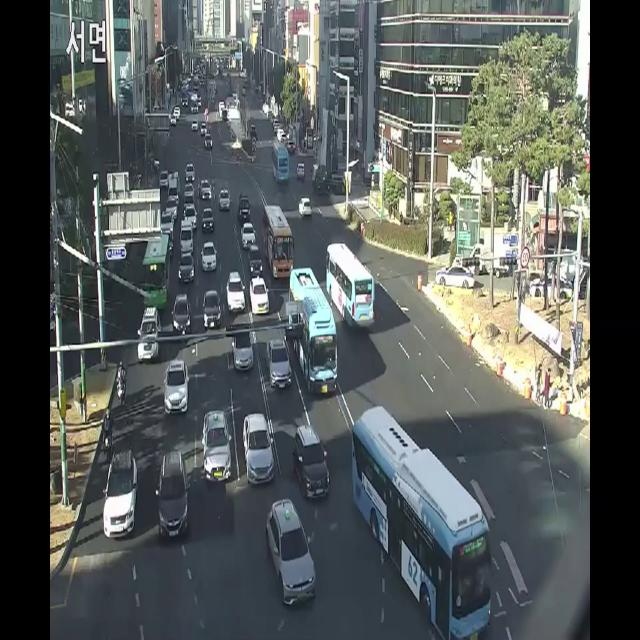bus: (99, 404, 116, 466), (114, 358, 129, 407)
car: (345, 400, 501, 640), (286, 264, 340, 409), (325, 240, 379, 336), (260, 200, 298, 280)
motorcycle: (264, 498, 320, 613), (150, 442, 193, 551), (289, 415, 334, 505), (241, 402, 277, 489), (199, 400, 234, 487)
